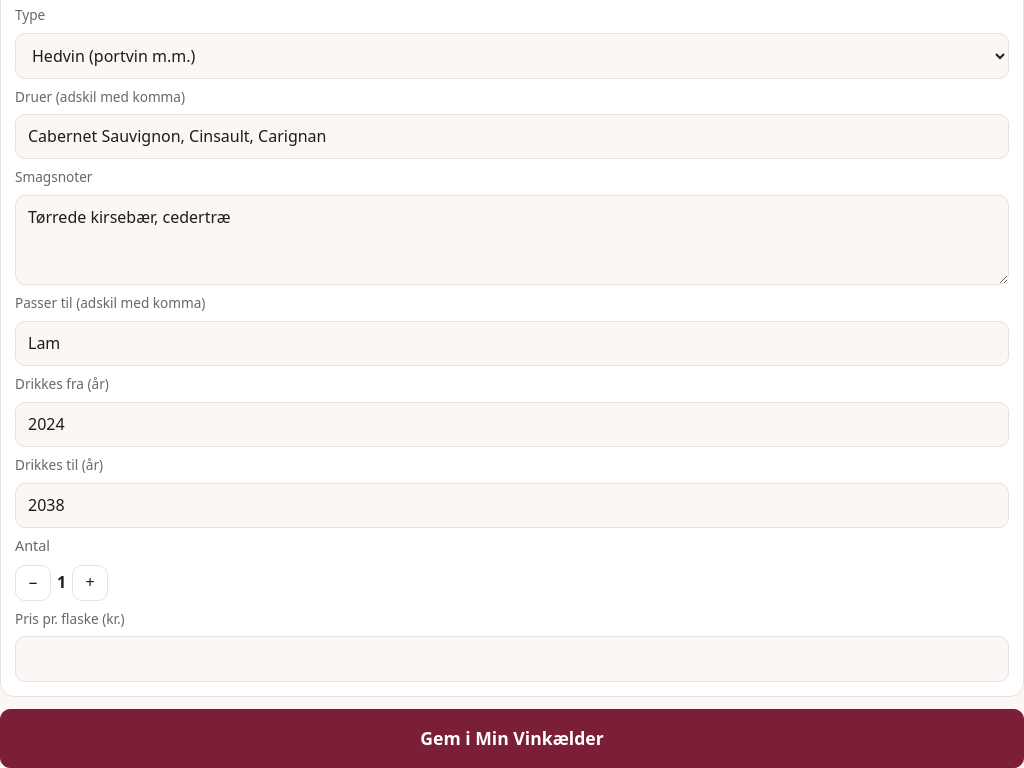
NV entry saves with vintage null
This screenshot has width=1024, height=768.
Earlier steps of the test are not shown.
(page scrolled)
Click the button "Gem i Min Vinkælder".
click(512, 738)  # box [0, 709, 1023, 767]
(page scrolled)
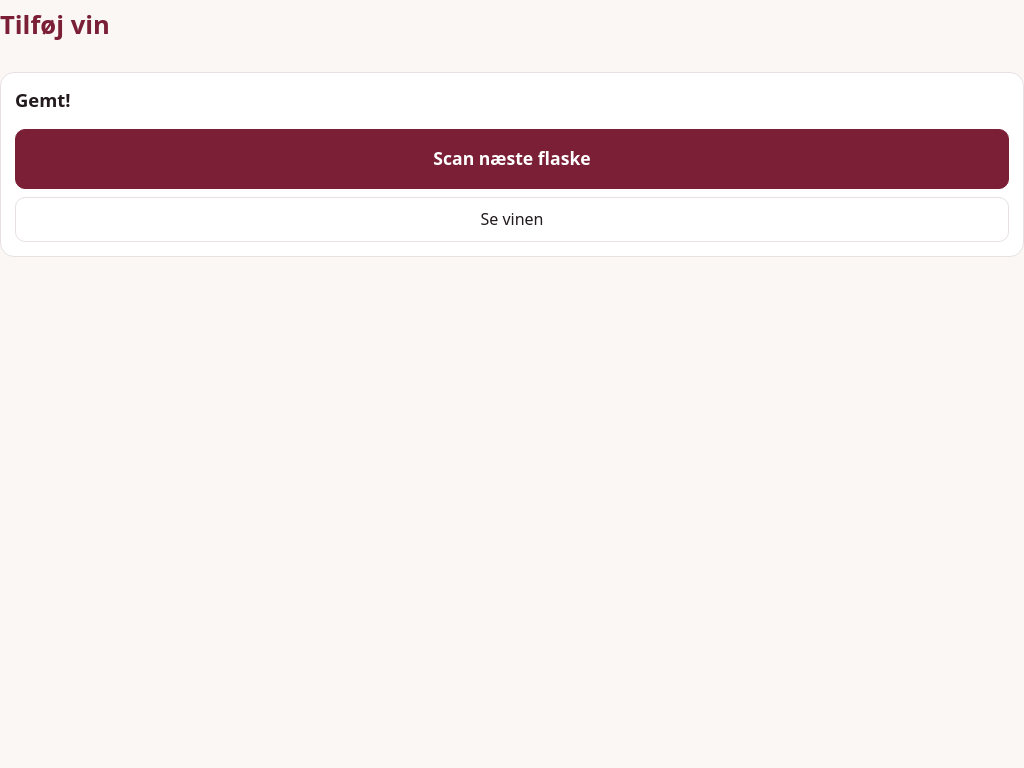
Expected: the heading "Gemt!" is shown, [15, 86, 70, 112]
